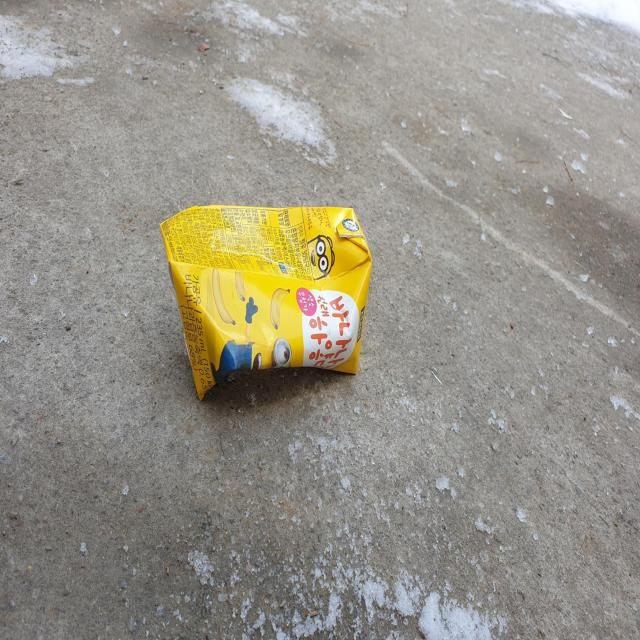paperpack: (160, 205, 371, 399)
